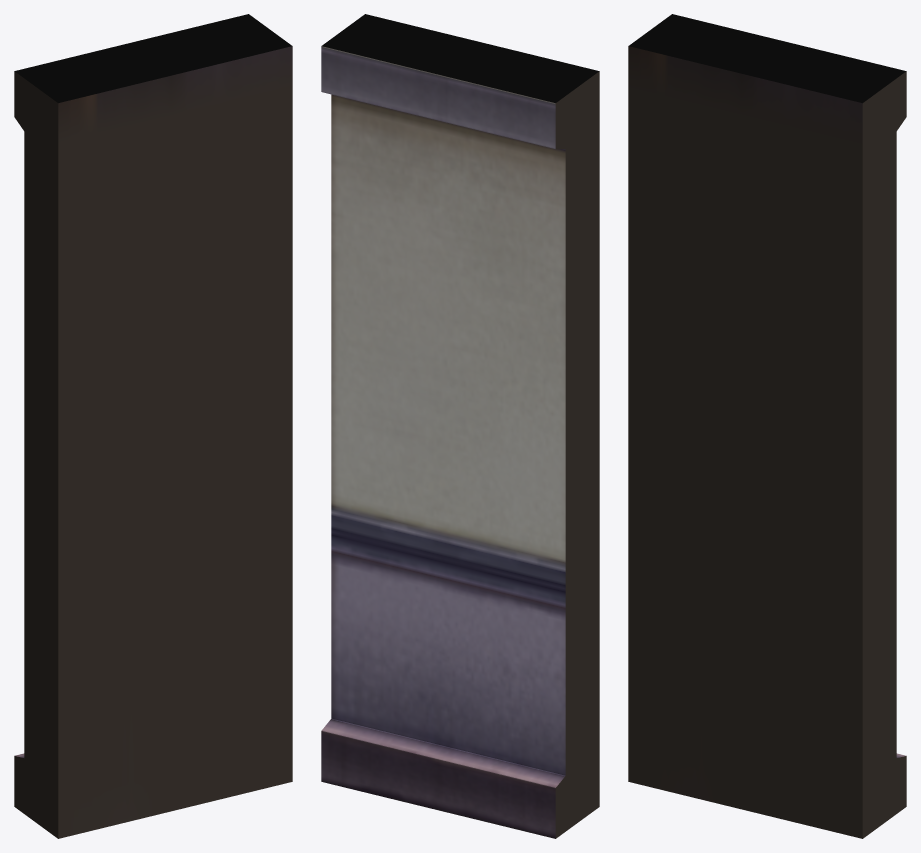
The model's file is a_SCwall03_02.glb.
The picture shows the model from 3 angles, left to right: view 1: azimuth 30°, elevation 25°; view 2: azimuth 150°, elevation 25°; view 3: azimuth 330°, elevation 25°; orthographic projection.
Visible parts, largest first — view 1: a_SCwall03_02; view 2: a_SCwall03_02; view 3: a_SCwall03_02.
Boxes of the visible parts, bbox=[...] form: a_SCwall03_02: bbox=[14, 14, 292, 838]; a_SCwall03_02: bbox=[321, 14, 599, 838]; a_SCwall03_02: bbox=[628, 14, 906, 838].
Size of the model in its own units: 1 by 3 by 0.324.
1 material, 1 textured.
